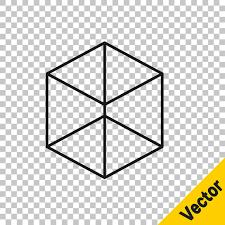cubos: (43, 40, 169, 181)
